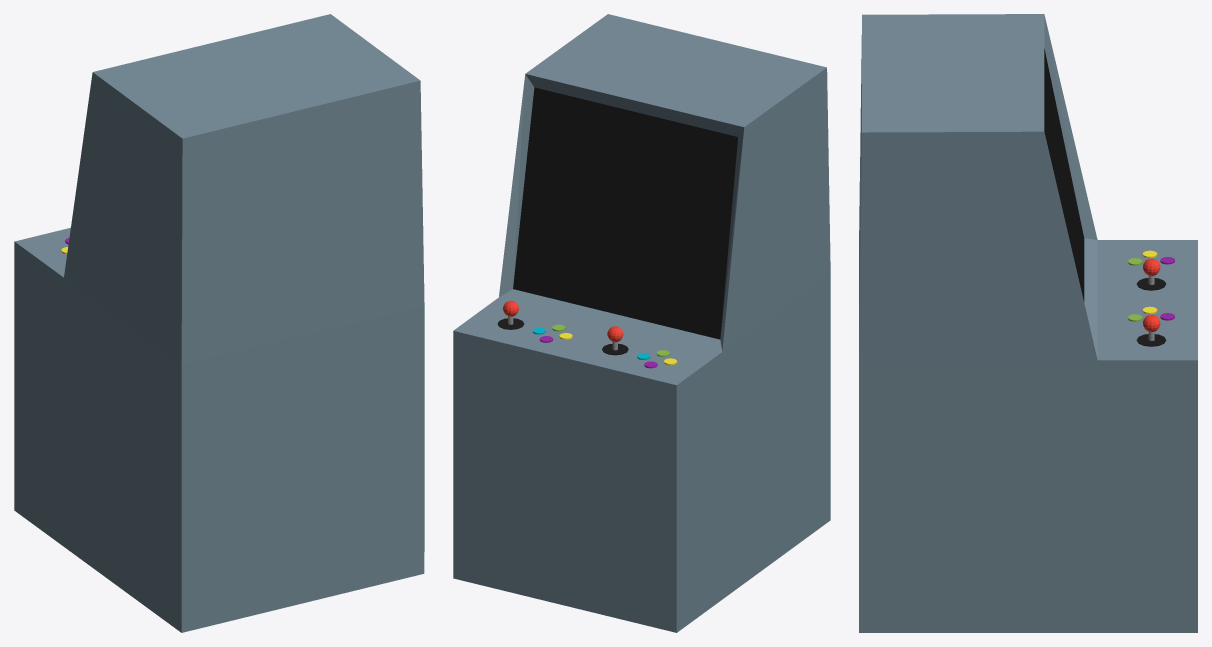
File: ArcadeMachine3.glb
3 renders of one model, left to right at view 1: azimuth 30°, elevation 25°; view 2: azimuth 150°, elevation 25°; view 3: azimuth 270°, elevation 25°, orthographic. The views are drawn at different scales.
Visible parts, largest first — view 1: Node; view 2: Node; view 3: Node.
Boxes of the visible parts, box(x1,y1,x2,y2) form: Node: box(14, 14, 424, 632); Node: box(453, 14, 830, 632); Node: box(859, 14, 1197, 632).
Size of the model in its own units: 0.9633 by 1.87 by 1.15.
